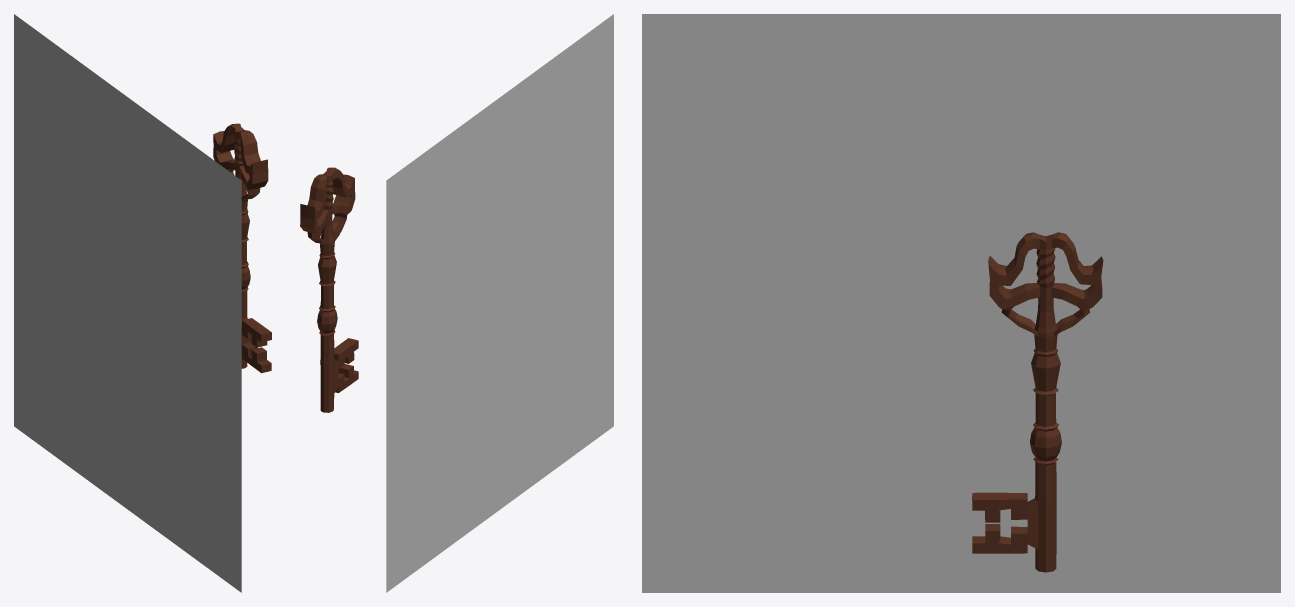
The model's file is SM_Key_05.fbx.
The picture shows the model from 3 angles, left to right: view 1: azimuth 30°, elevation 25°; view 2: azimuth 150°, elevation 25°; view 3: azimuth 270°, elevation 25°; orthographic projection. The views are drawn at different scales.
Visible parts, largest first — view 1: schlüsselref, SM_Key; view 2: schlüsselref, SM_Key; view 3: schlüsselref, SM_Key.
Part boxes in pixels (x1,y1,x2,y2): schlüsselref: (14, 14, 241, 592); SM_Key: (213, 123, 271, 373); schlüsselref: (386, 14, 613, 592); SM_Key: (300, 167, 358, 412); schlüsselref: (642, 14, 1280, 592); SM_Key: (972, 232, 1103, 572).
Bounding box in the file's own units: 61.77 × 161 × 161.
